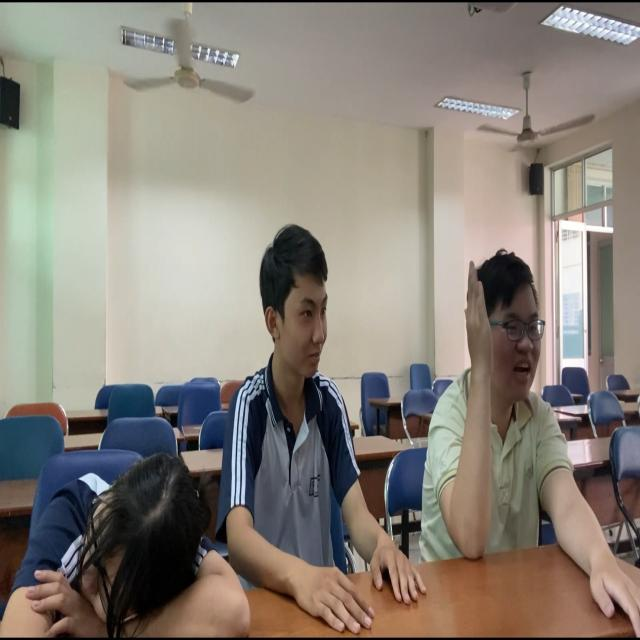raise_hand: (446, 246, 572, 571)
sleep: (3, 449, 246, 640)
